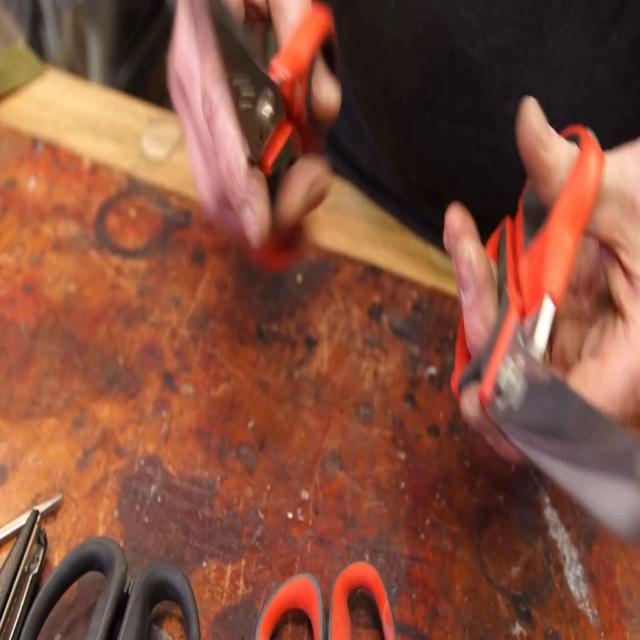scissor: (449, 130, 640, 536), (207, 0, 339, 210)
